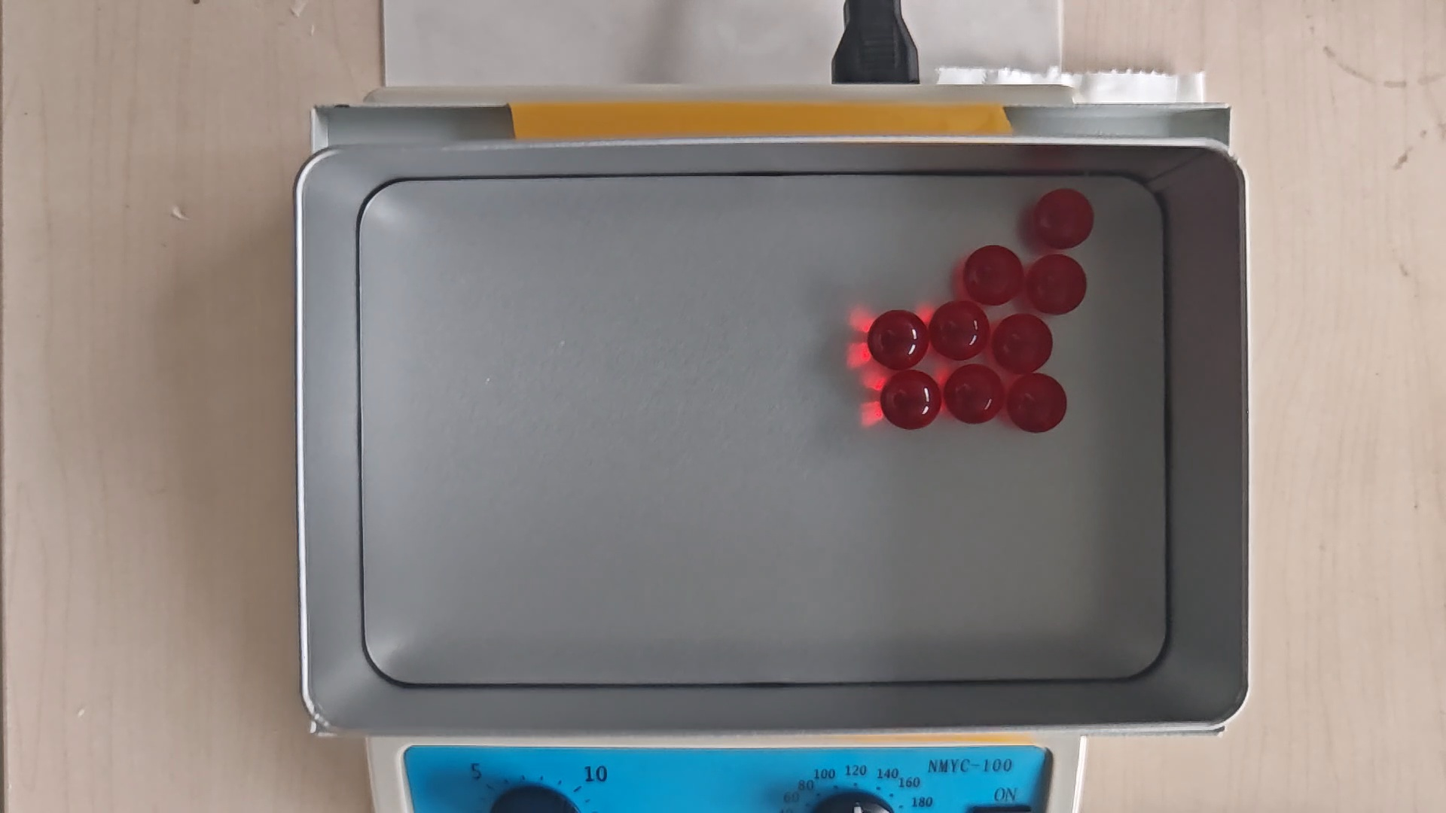ball: (963, 244, 1024, 306), (1007, 372, 1067, 434), (930, 300, 990, 362), (1034, 188, 1094, 250), (882, 369, 941, 431), (869, 308, 928, 370), (946, 364, 1005, 425), (993, 314, 1052, 374), (1028, 254, 1086, 314)
container: (353, 172, 1166, 682)
